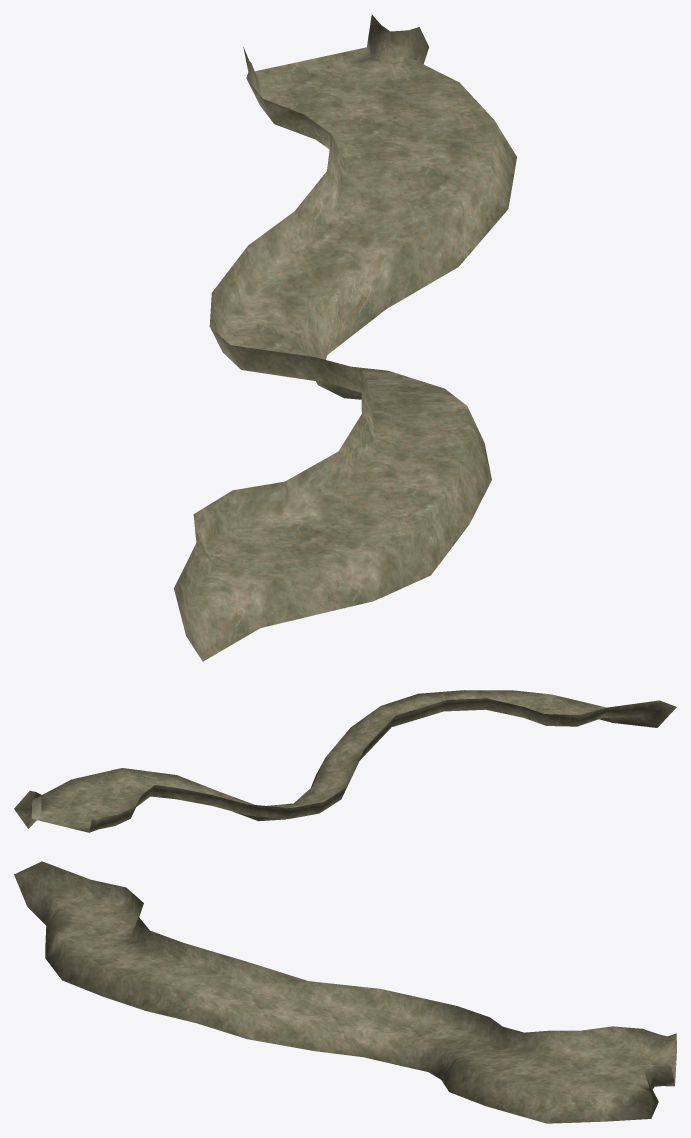
The model's file is EKH_GROTTO_PS_GR_OBJECT12.fbx.
3 views of the same model, one above another, from view 1: azimuth 30°, elevation 25°; view 2: azimuth 150°, elevation 25°; view 3: azimuth 270°, elevation 25° (orthographic). The views are drawn at different scales.
Parts seen in each view (by area): view 1: EKH_GROTTO_PS_GR_OBJECT12; view 2: EKH_GROTTO_PS_GR_OBJECT12; view 3: EKH_GROTTO_PS_GR_OBJECT12.
Part boxes in pixels (x1,y1,x2,y2): EKH_GROTTO_PS_GR_OBJECT12: (174,14,516,661); EKH_GROTTO_PS_GR_OBJECT12: (14,690,676,832); EKH_GROTTO_PS_GR_OBJECT12: (14,861,676,1123).
Bounding box in the file's own units: 135396 × 22940 × 166404.
1 material, 1 textured.
